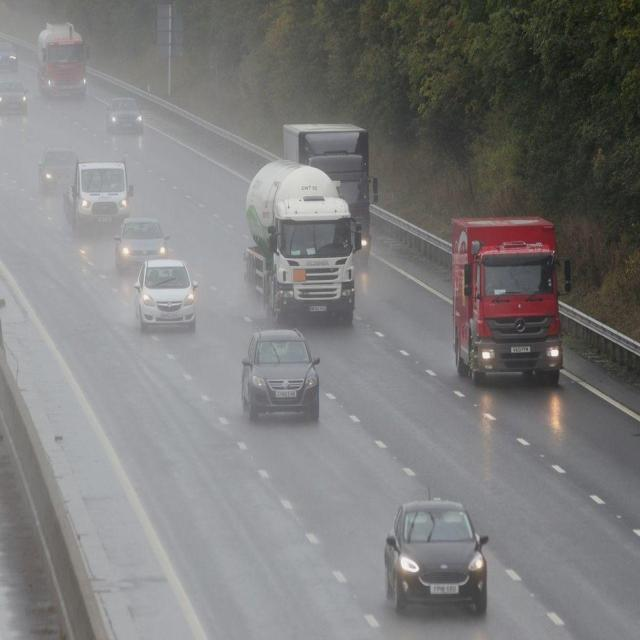Car: (372, 489, 494, 615), (243, 323, 326, 428), (134, 248, 199, 332), (30, 142, 80, 207), (118, 215, 173, 272), (106, 89, 146, 145), (2, 77, 32, 132)
Truck: (445, 208, 569, 391), (247, 160, 363, 322), (277, 106, 386, 269), (74, 154, 134, 252), (38, 9, 94, 109)
